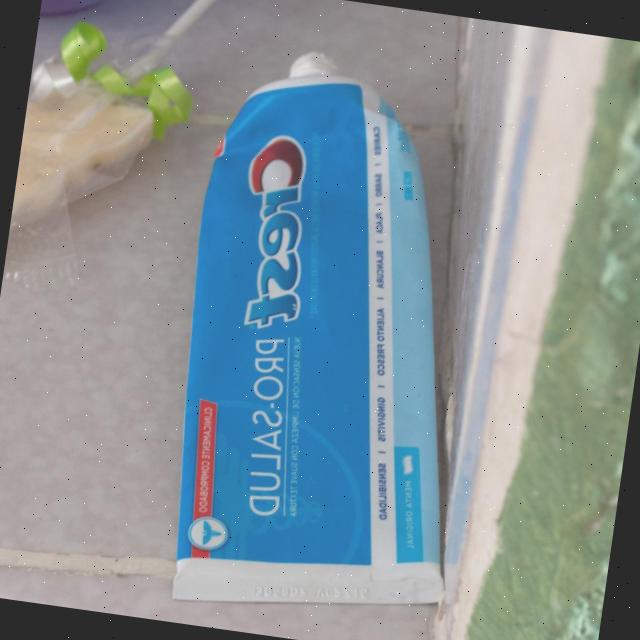Toothpaste: (145, 19, 528, 640)
